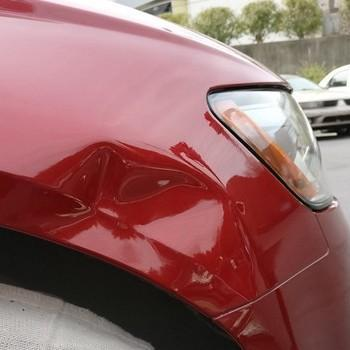dent: (22, 131, 259, 326)
